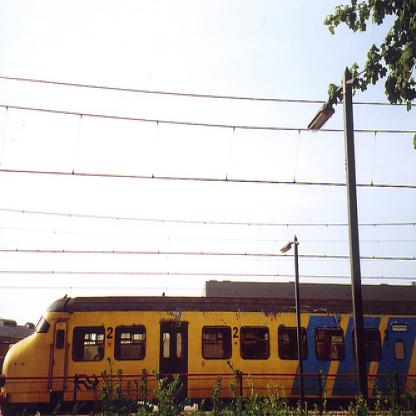train: (0, 292, 415, 415)
